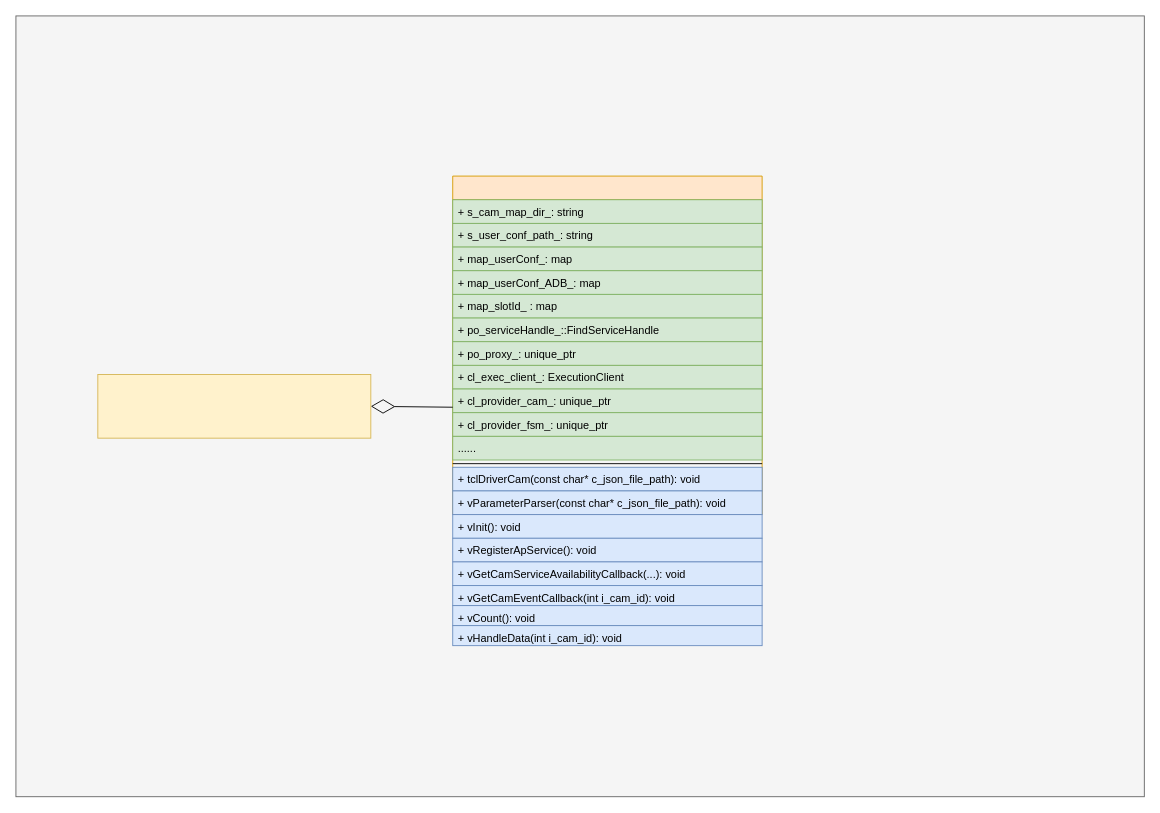
Image size: 1160x813. Some labels were removed from this diagram. The box of each missing label's shape, as (x1, y1, x2, y2) in pixels:
cam_application: (452, 175, 762, 515)
main method: (97, 374, 371, 438)
